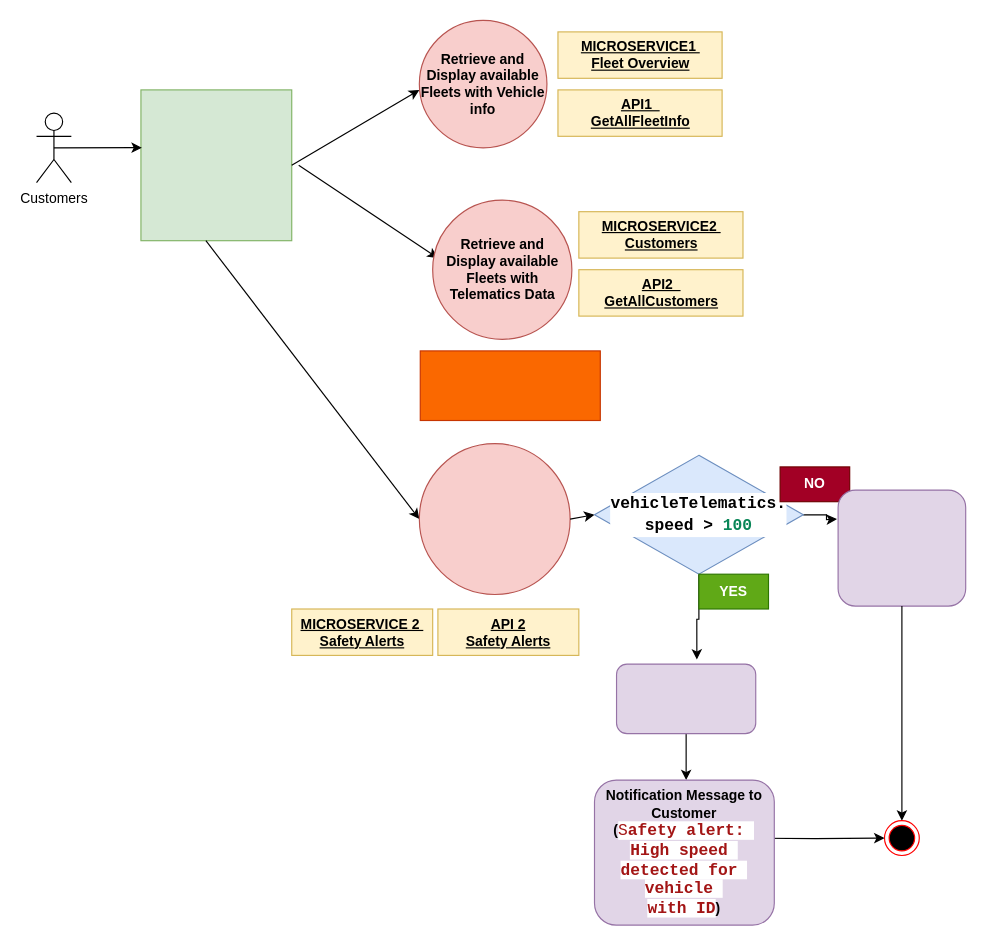
The diagram is 986 pixels wide and 945 high, and some of its shapes have lost their labels. The shapes that lost their labels are listed below. From the top down, each one's box as (x1, y1, x2, y2) in pixels, then its label:
(140, 89, 292, 241): Angular Frontend (E2: Transport As A Service => Subscription Service)
(419, 350, 600, 420): Reuse API2 via Event Broker - Apache Kafka From E3: Customer Portal
(418, 443, 570, 594): "Check Safety Alerts" Button for selected Fleet
(837, 489, 966, 606): Notification Message to Customer => "No Safety Alerts needed"
(615, 663, 756, 734): Generate Real time Safety alerts for the selected Fleet
